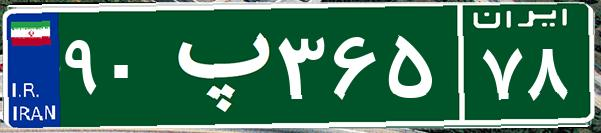0: (110, 28, 158, 105)
3: (273, 28, 330, 110)
5: (385, 28, 445, 110)
6: (330, 28, 385, 110)
7: (475, 38, 525, 113)
8: (525, 38, 570, 115)
9: (57, 26, 110, 107)
پ: (158, 15, 273, 115)
